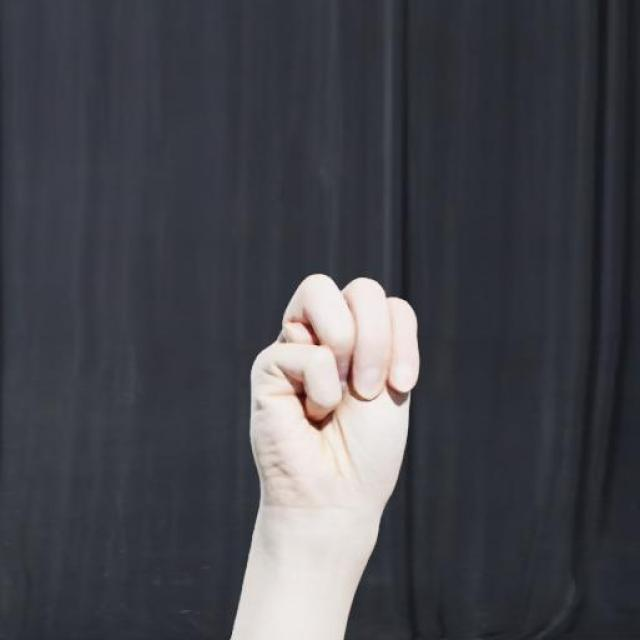M: (247, 261, 422, 521)
